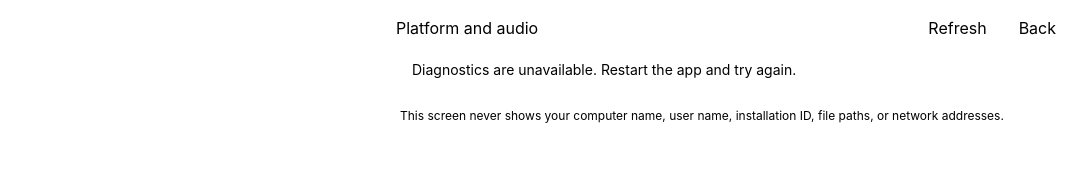
it: handles a missing preload bridge and navigates back
This screenshot has width=1085, height=172.
Expected: the message "Diagnostics are unavailable. Restart the app and try again." is shown, [412,61,796,78]
Step 1. Click the button "Back" → (1037, 28), box [1007,12,1068,44]
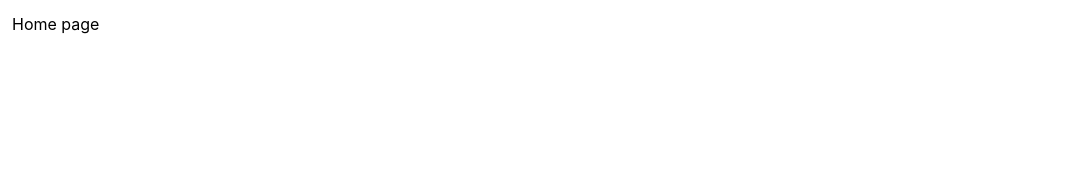
Now the text "Home page" is shown, box [12,14,99,34]
